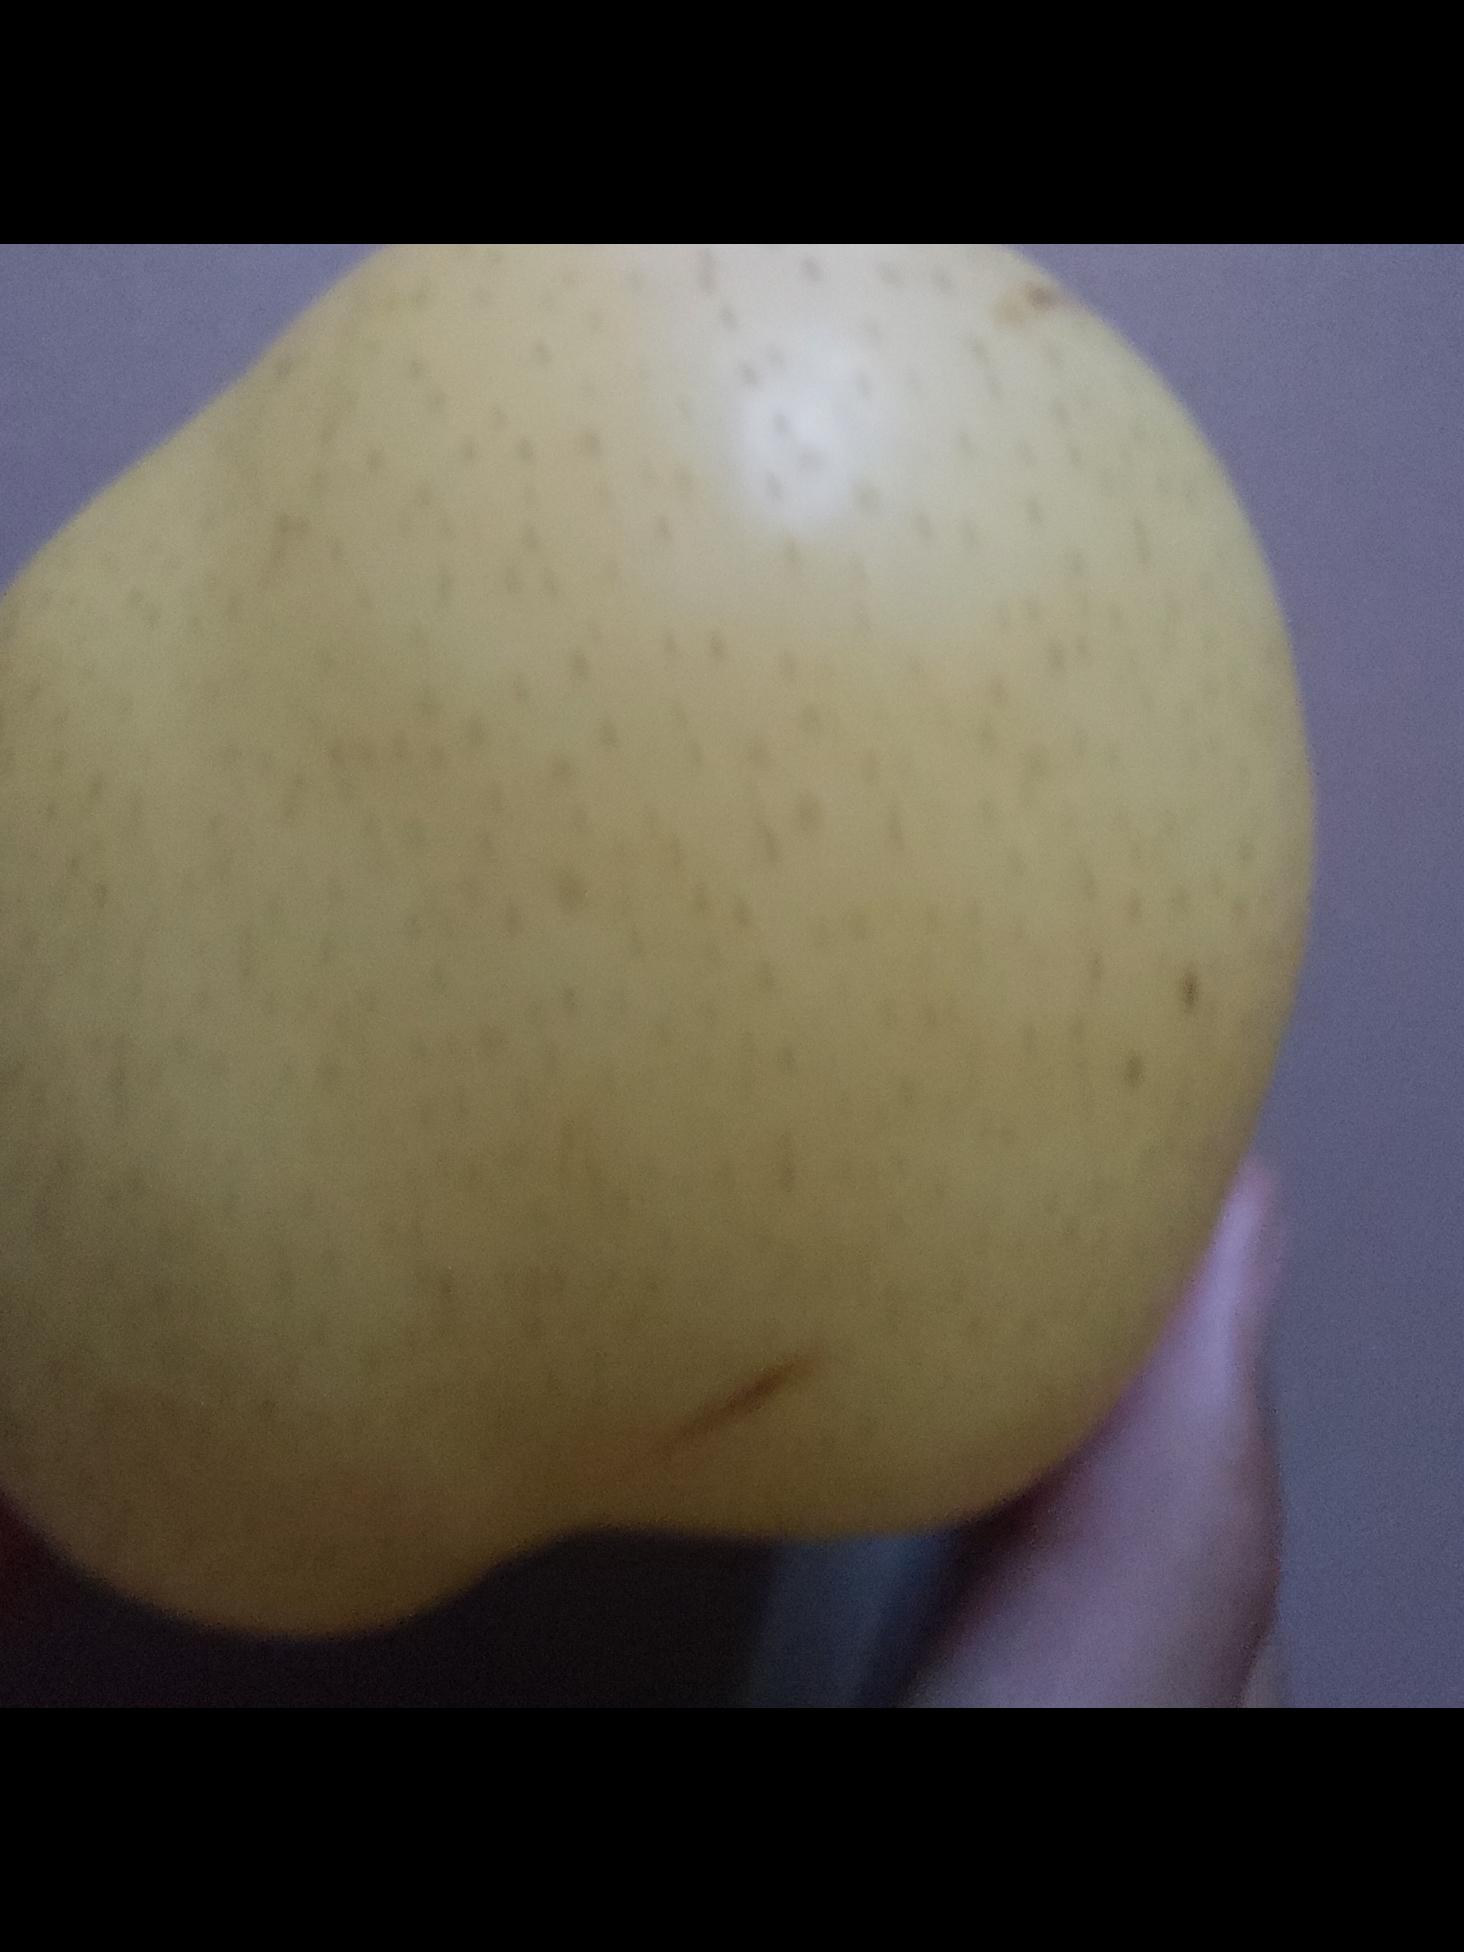Good Pear: (0, 244, 1318, 1636)
